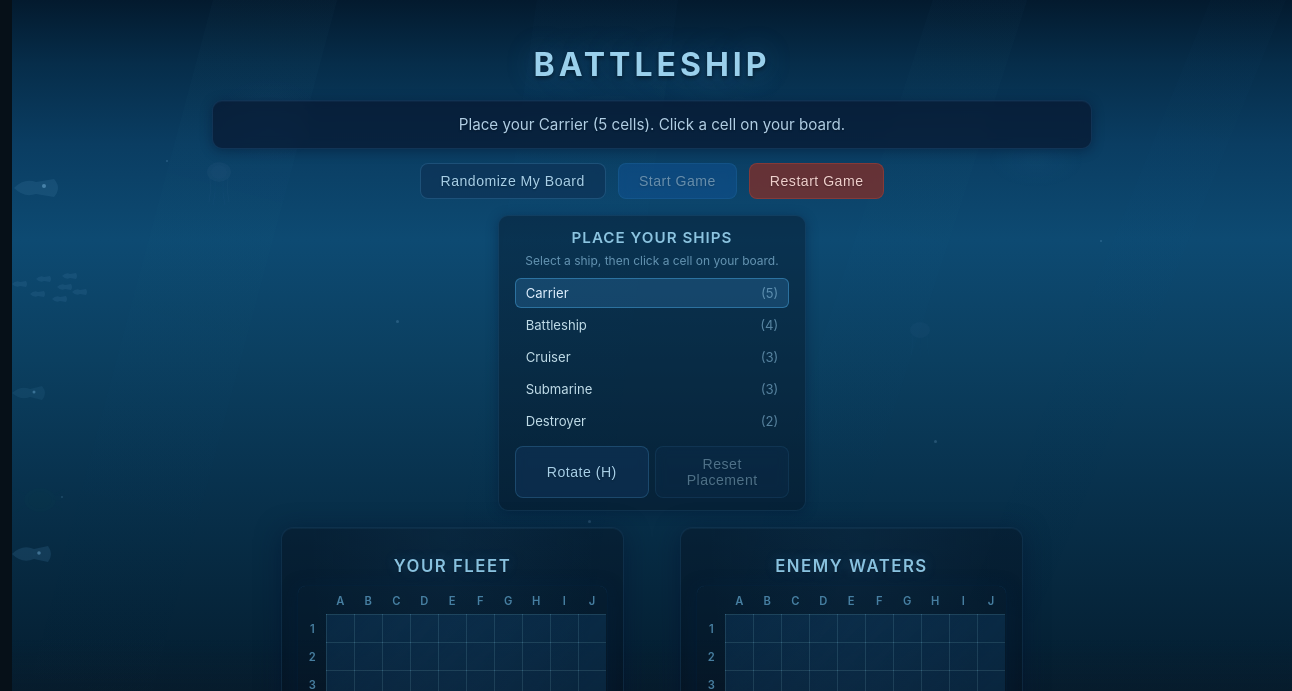
it: App integration › manual ship placement › status text updates to show next ship after placing one
Expected: the text "Place your Carrier (5 cells). Click a cell on your board." is shown, [459,115,845,134]
Place Carrier at (0,0)
Click the cell named "Row 1, Column A, empty" below "Your Fleet" at (340, 629), box [326,615,354,643]
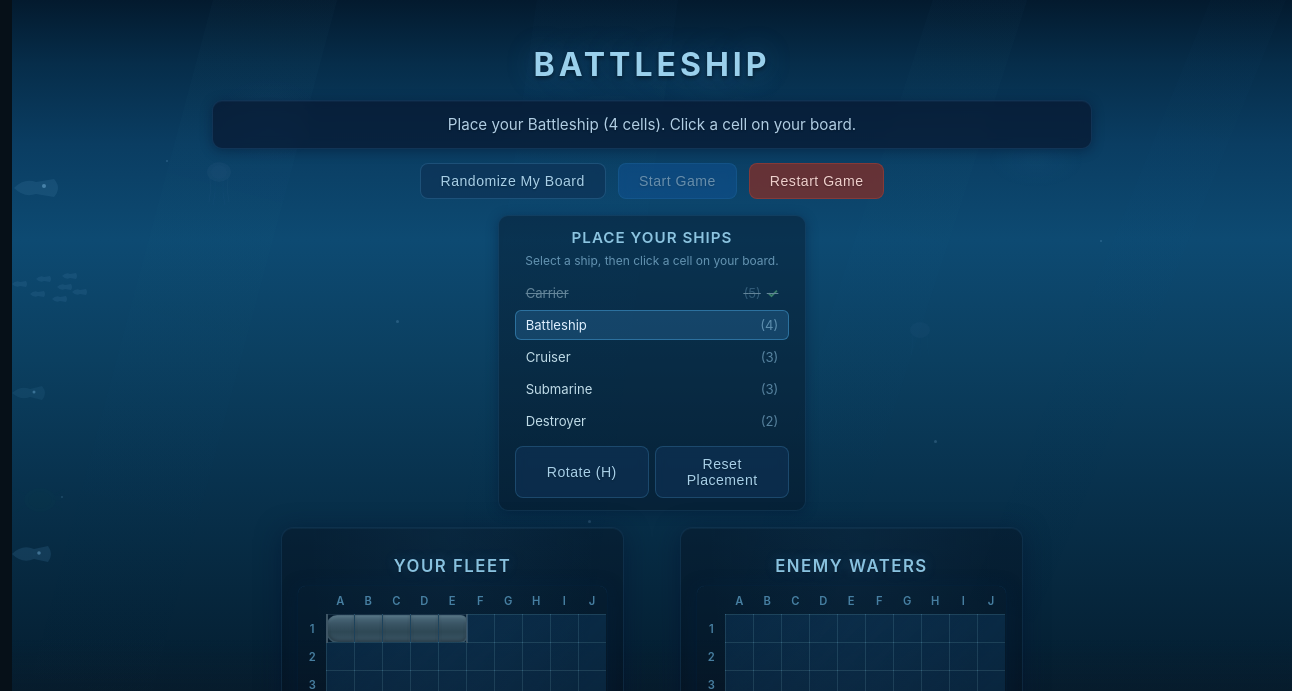
Result: the text "Place your Battleship (4 cells). Click a cell on your board." is shown at [448,115,856,134]
